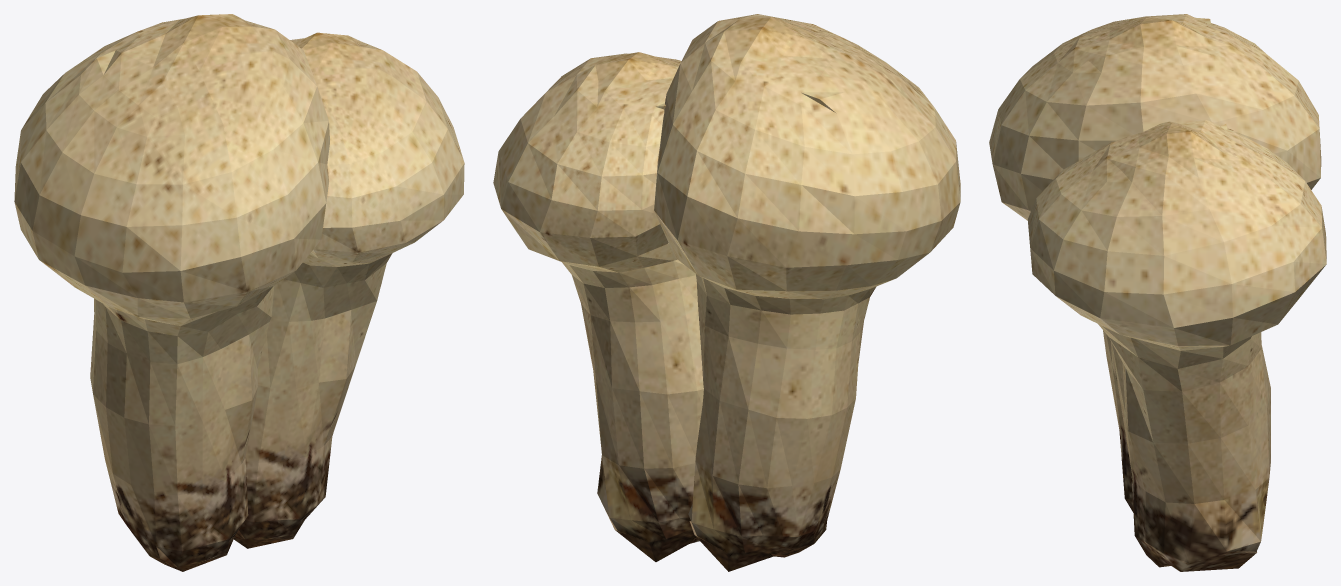
The model's file is P_Baiyugu_02.obj.
3 renders of one model, left to right at view 1: azimuth 30°, elevation 25°; view 2: azimuth 150°, elevation 25°; view 3: azimuth 270°, elevation 25°, orthographic. The views are drawn at different scales.
Size of the model in its own units: 0.3985 by 0.4835 by 0.2874.
1 material, 1 textured.
